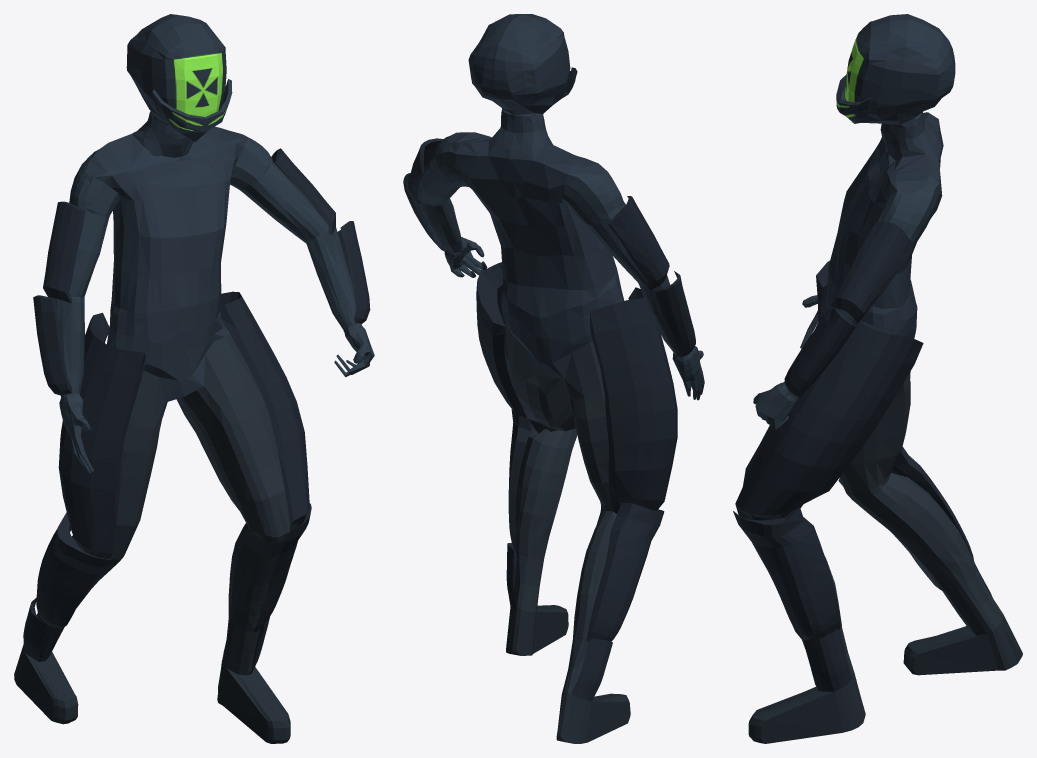
Rendered from Bastion_Hit_Recover_000005.obj.
3 renders of one model, left to right at view 1: azimuth 30°, elevation 25°; view 2: azimuth 150°, elevation 25°; view 3: azimuth 270°, elevation 25°, orthographic. The views are drawn at different scales.
Parts seen in each view (by area): view 1: Cube.002; view 2: Cube.002; view 3: Cube.002.
Part boxes in pixels (x1,y1,x2,y2): Cube.002: [14, 14, 374, 743]; Cube.002: [403, 14, 704, 743]; Cube.002: [733, 14, 1022, 743].
Size of the model in its own units: 1.7 by 3.67 by 1.37.
